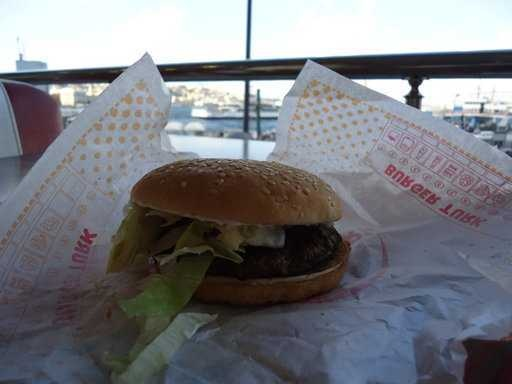hamburger: (119, 144, 364, 304)
